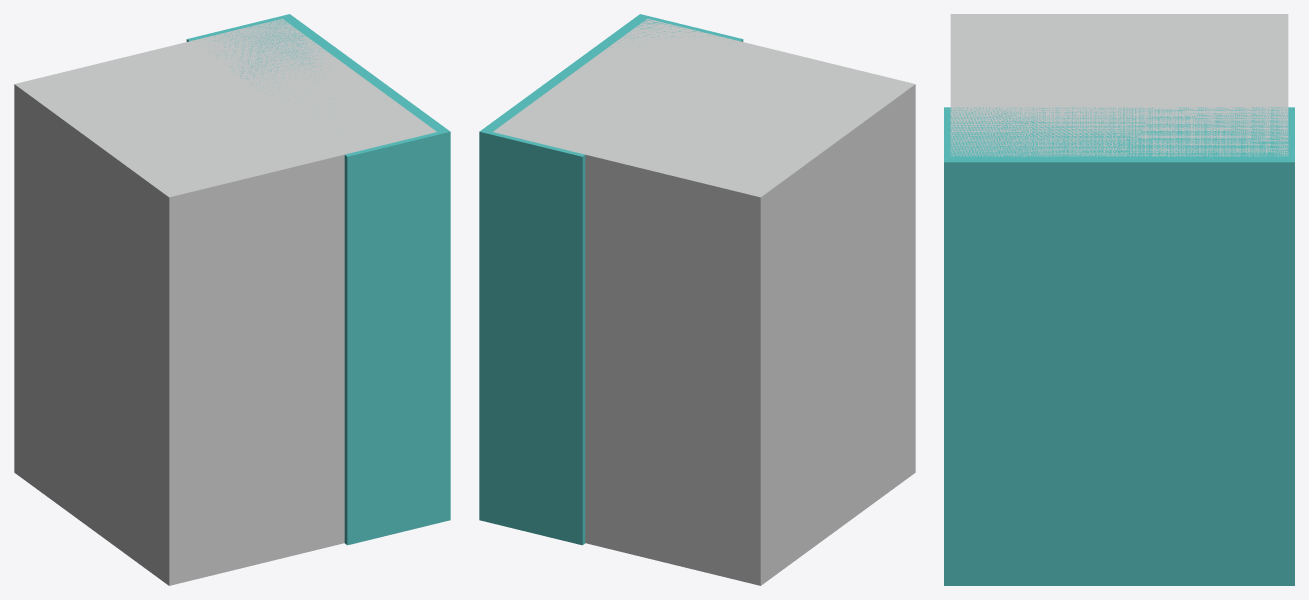
The model's file is astronauta_retro_coxa.glb.
3 views of the same model, side by side, from view 1: azimuth 30°, elevation 25°; view 2: azimuth 150°, elevation 25°; view 3: azimuth 270°, elevation 25° (orthographic). The views are drawn at different scales.
Visible parts, largest first — view 1: astronauta_retro_coxa; view 2: astronauta_retro_coxa; view 3: astronauta_retro_coxa.
Part boxes in pixels (box(x1,y1,x2,y2)): astronauta_retro_coxa: box(14, 14, 450, 585); astronauta_retro_coxa: box(479, 14, 915, 585); astronauta_retro_coxa: box(944, 14, 1294, 585).
Bounding box in the file's own units: 0.27 × 0.36 × 0.27.
